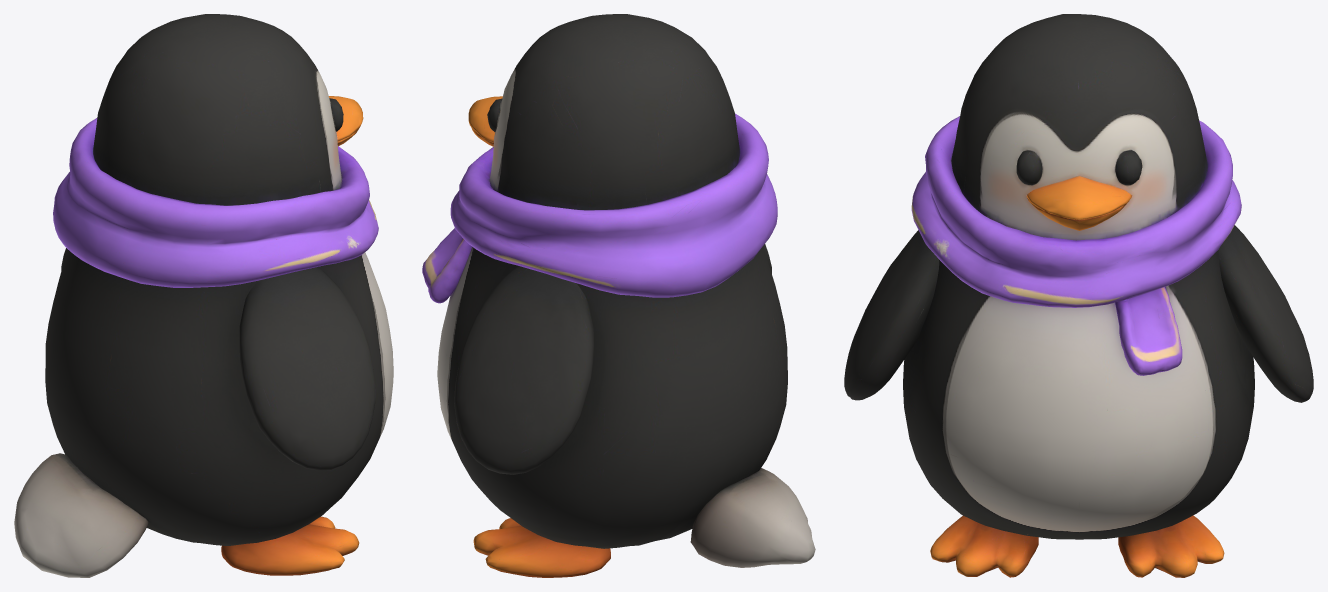
The model's file is r33-penguin.glb.
The picture shows the model from 3 angles, left to right: view 1: azimuth 30°, elevation 25°; view 2: azimuth 150°, elevation 25°; view 3: azimuth 270°, elevation 25°; orthographic projection.
Parts seen in each view (by area): view 1: tripo_node_9f9cca90-e5c8-4a43-9cec-a4846434cf99; view 2: tripo_node_9f9cca90-e5c8-4a43-9cec-a4846434cf99; view 3: tripo_node_9f9cca90-e5c8-4a43-9cec-a4846434cf99.
Boxes of the visible parts, box(x1,y1,x2,y2) form: tripo_node_9f9cca90-e5c8-4a43-9cec-a4846434cf99: box(14, 14, 393, 577); tripo_node_9f9cca90-e5c8-4a43-9cec-a4846434cf99: box(422, 14, 815, 577); tripo_node_9f9cca90-e5c8-4a43-9cec-a4846434cf99: box(844, 14, 1313, 577).
Size of the model in its own units: 0.7324 by 0.998 by 0.8301.
Materials: 1 (1 with a texture image).
